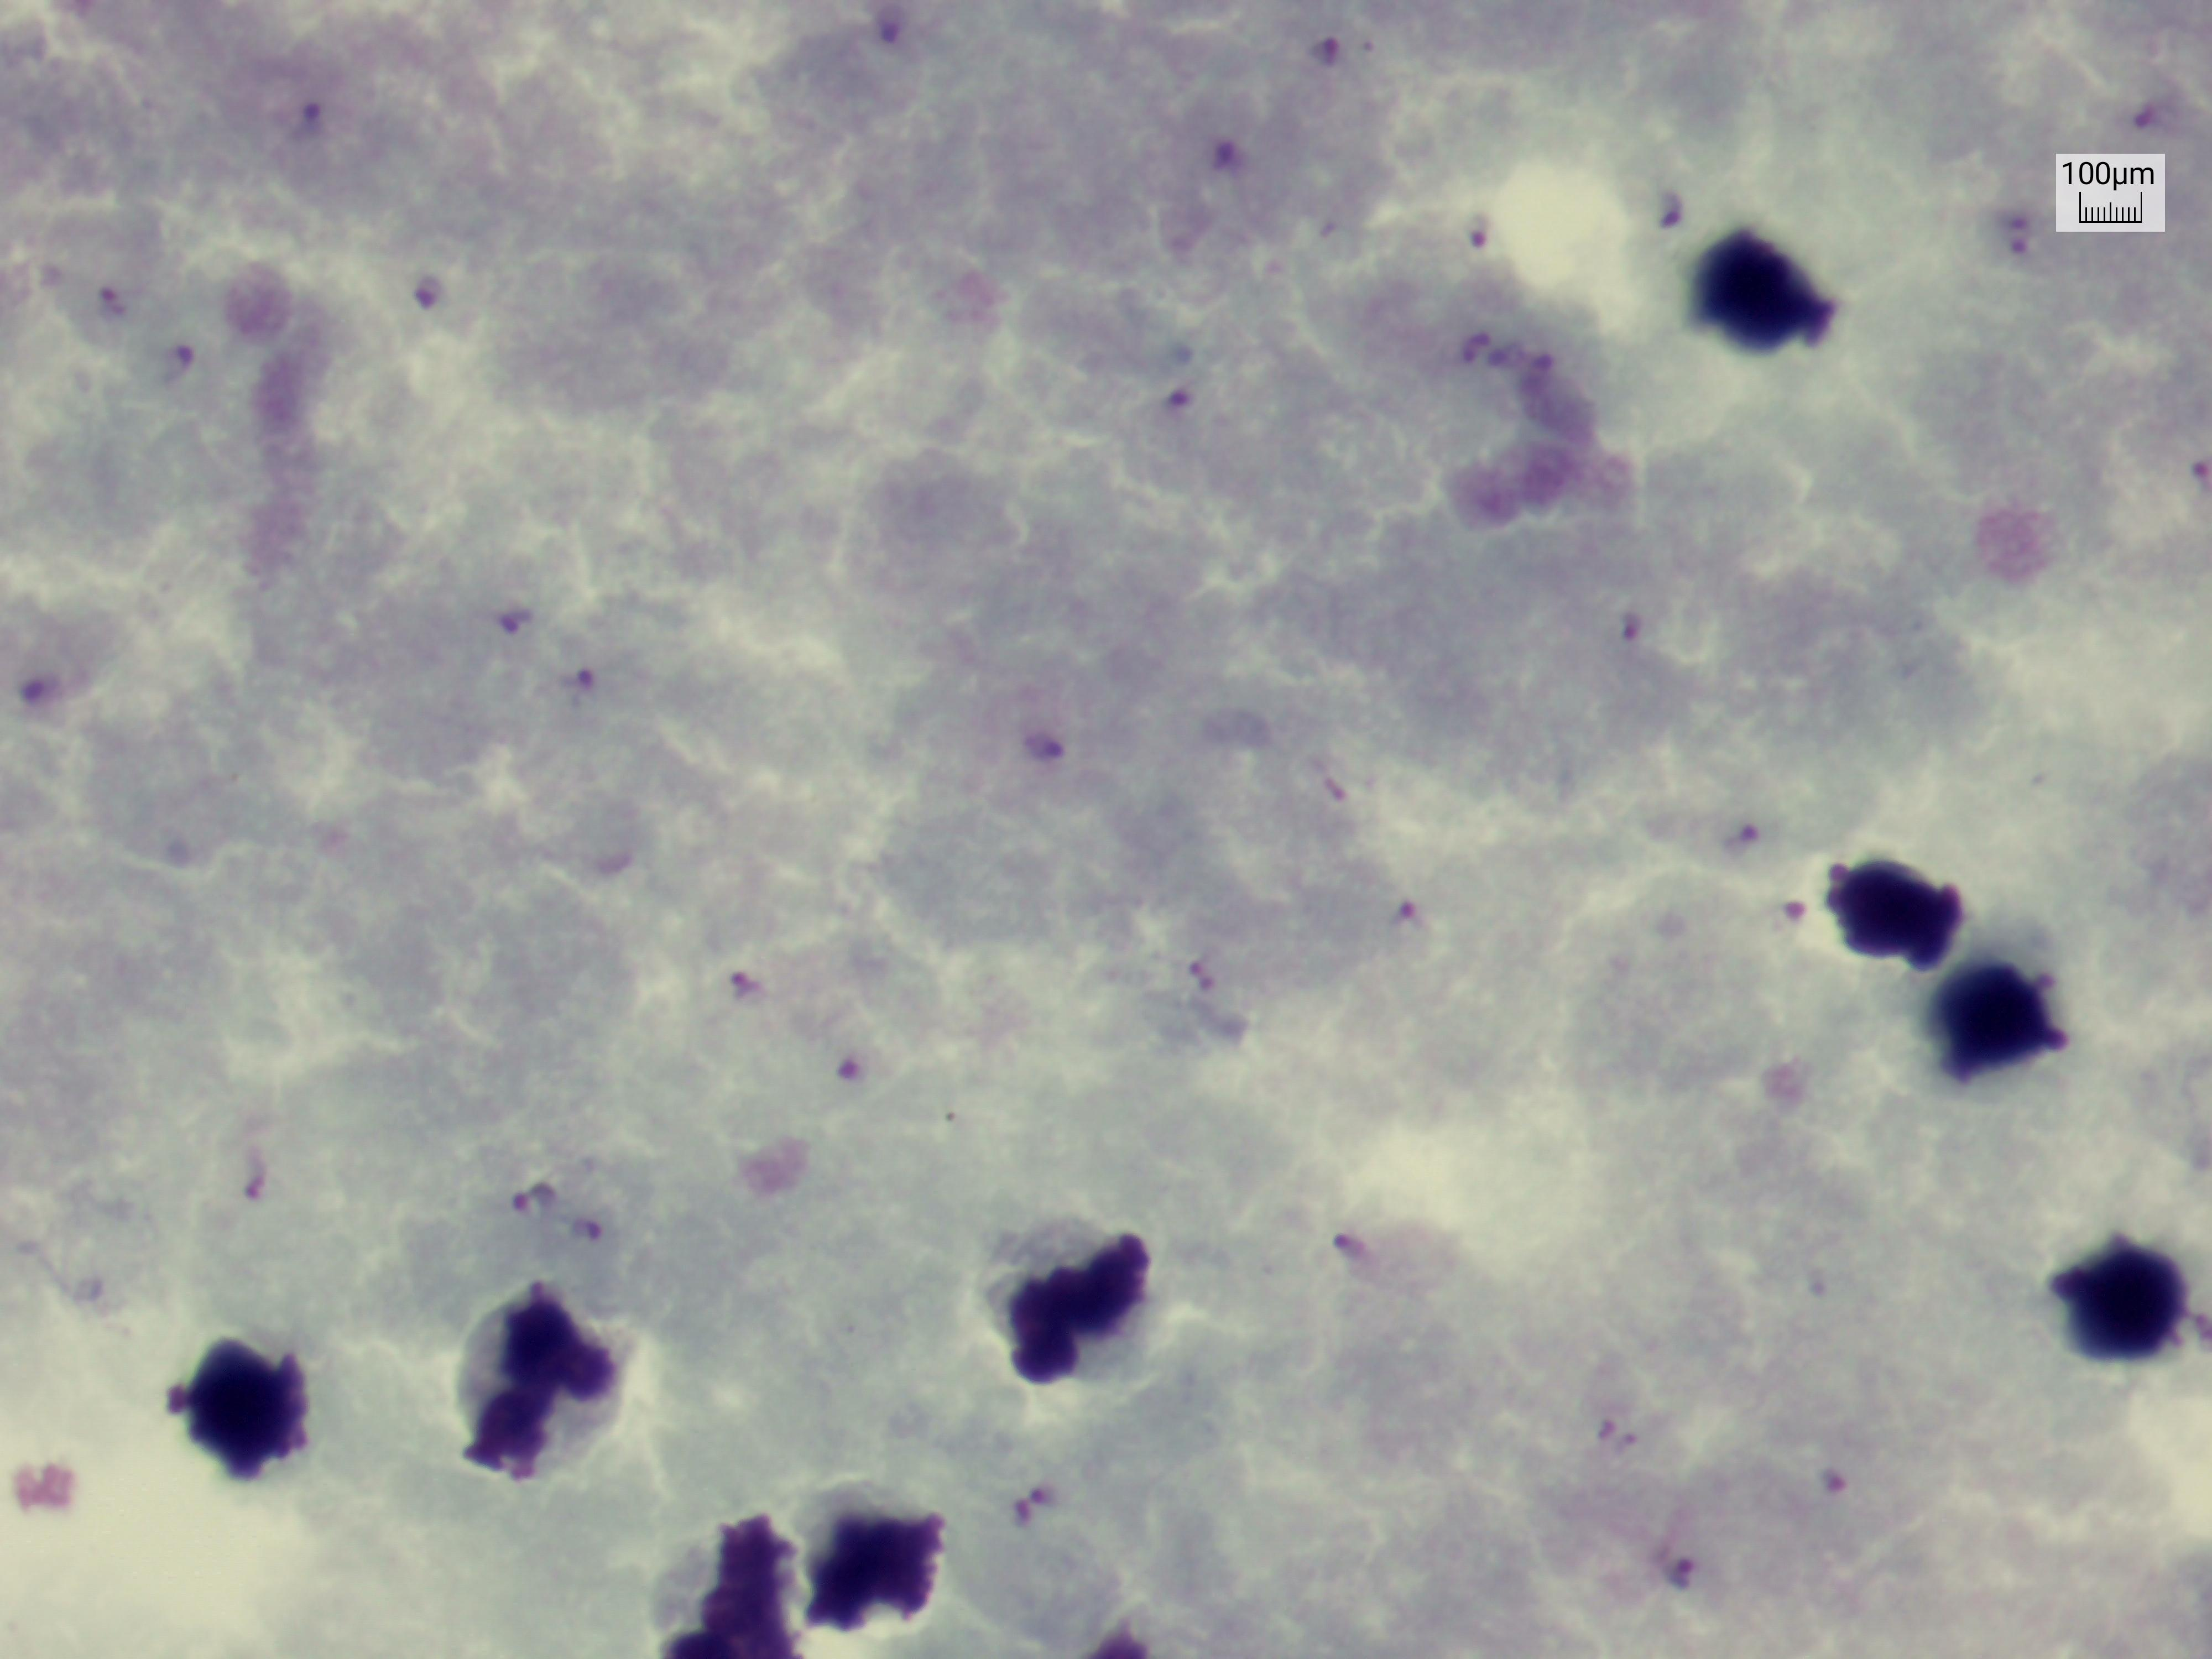p.falciparum: (486, 1168, 620, 1263), (1008, 702, 1096, 805), (988, 1457, 1073, 1561), (1308, 1201, 1395, 1297), (2109, 66, 2196, 160), (1632, 1521, 1737, 1596), (1717, 789, 1808, 873), (211, 1134, 293, 1227), (268, 73, 347, 157), (707, 936, 777, 1028), (1581, 1389, 1648, 1485), (1172, 918, 1235, 1019), (1637, 160, 1707, 247), (155, 315, 221, 404), (1183, 125, 1271, 192), (1803, 1438, 1860, 1535), (17, 650, 84, 732), (819, 1021, 876, 1110), (470, 582, 543, 652), (1458, 188, 1531, 258), (1426, 300, 1496, 371), (395, 260, 458, 338), (838, 0, 925, 51), (1773, 875, 1820, 967), (1982, 183, 2041, 256), (1383, 877, 1433, 960), (1144, 371, 1207, 430), (1606, 582, 1653, 660), (573, 640, 613, 723), (77, 267, 134, 324), (1294, 19, 1353, 68)
